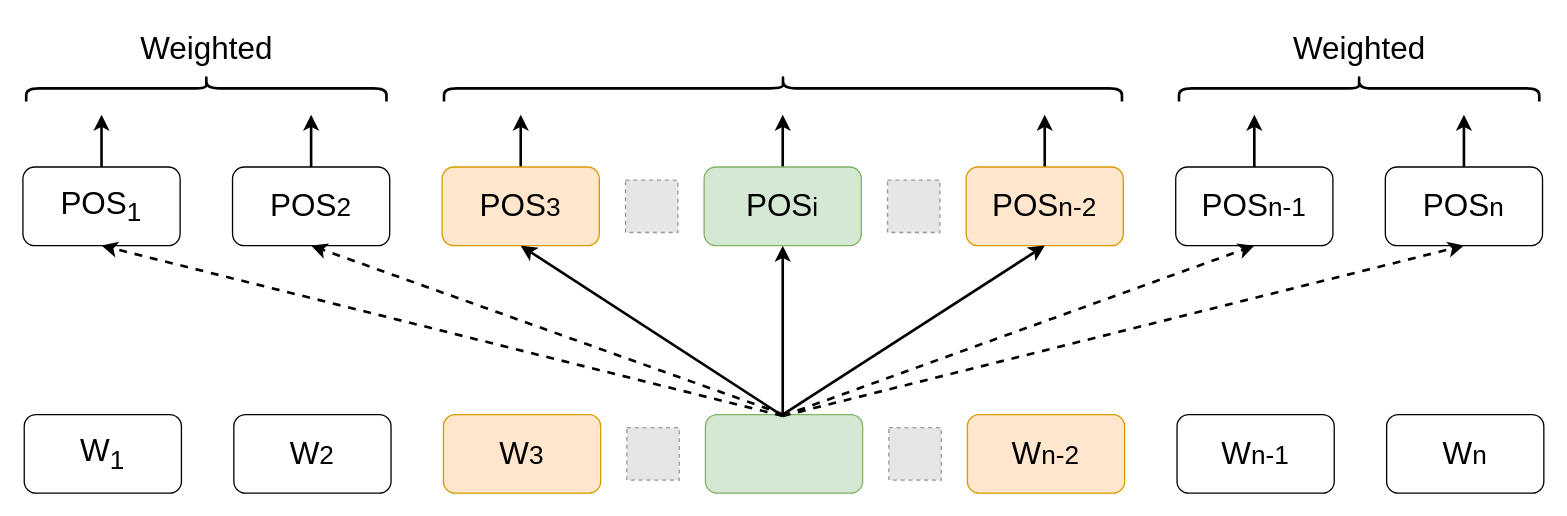
Some shapes in this 1567 by 516 pixel diagram are drawn without their labels. Grey dashed boxes stand in for pictures. The shapes that lost their labels are listed below. From the top down, each one's centre as x and y in pixels, then its label:
At point 782,87: "Keep Intact".
At point 783,453: "W i".
